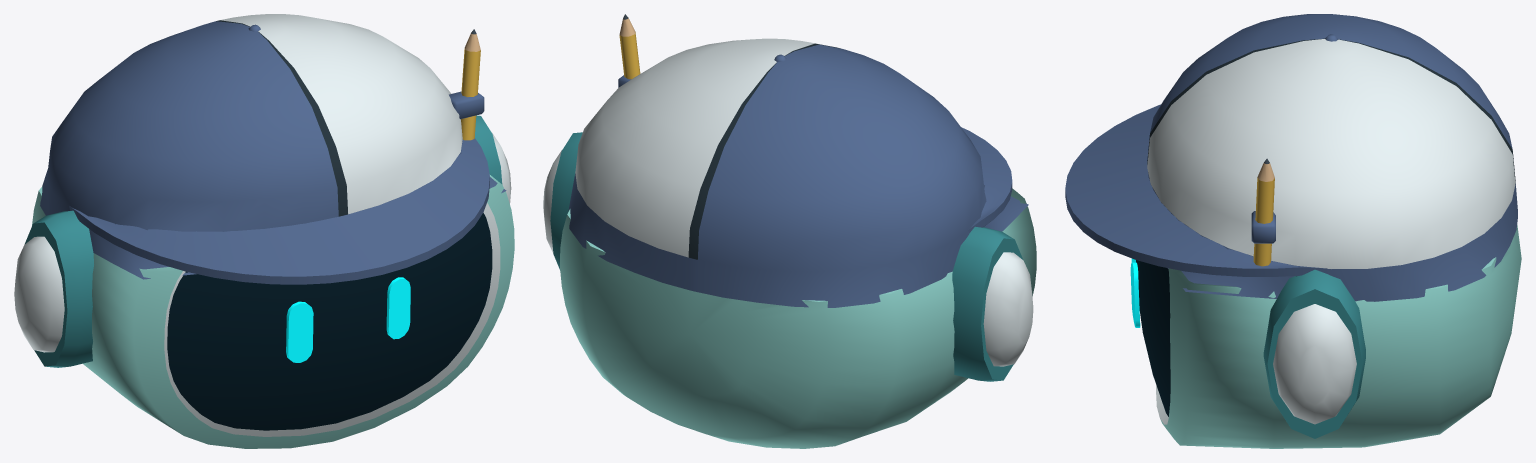
File: copilot_analyst_v01.glb
3 views of the same model, side by side, from view 1: azimuth 30°, elevation 25°; view 2: azimuth 150°, elevation 25°; view 3: azimuth 270°, elevation 25° (orthographic). The views are drawn at different scales.
Parts seen in each view (by area): view 1: analyst_model; view 2: analyst_model; view 3: analyst_model.
Part boxes in pixels (bbox=[...]): analyst_model: bbox=[14, 14, 514, 448]; analyst_model: bbox=[543, 14, 1036, 448]; analyst_model: bbox=[1065, 14, 1521, 448].
Bounding box in the file's own units: 2.82 × 2.02 × 2.23.
2 materials, 2 textured.
